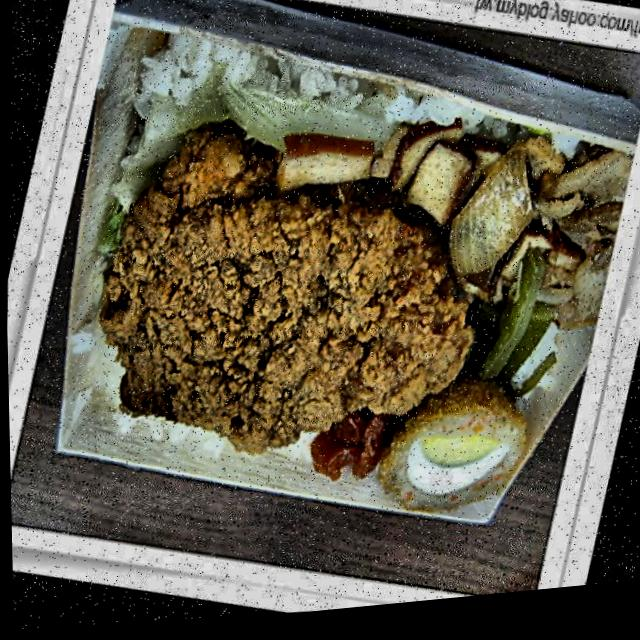Food: (64, 108, 492, 515)
